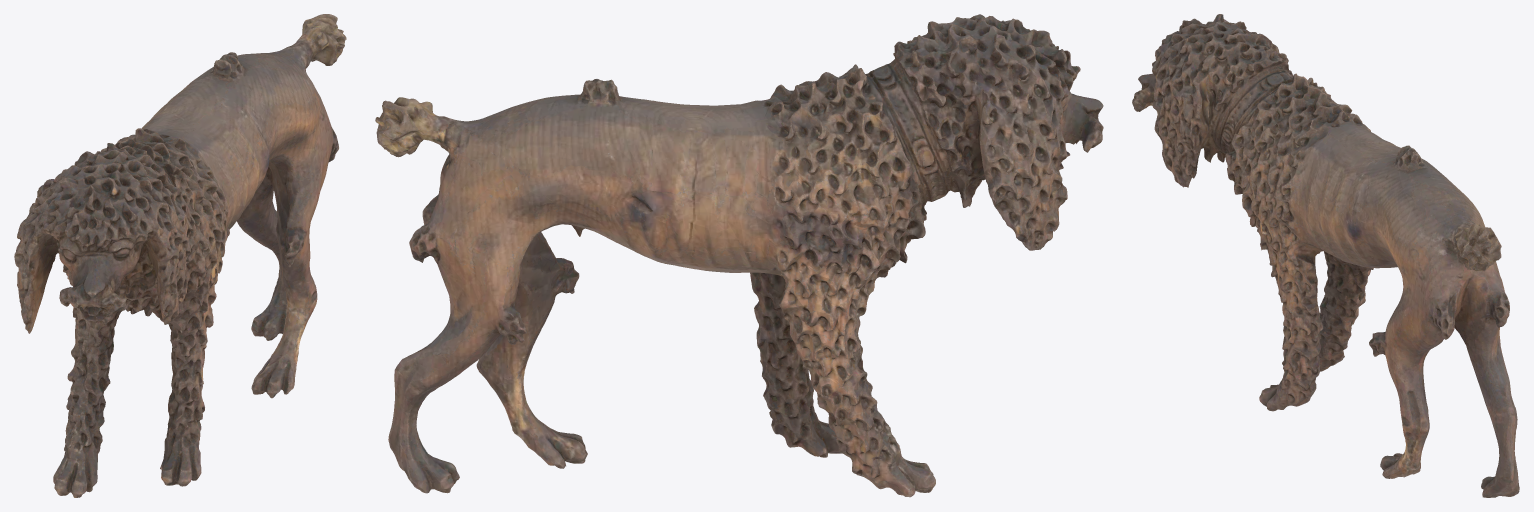
The model's file is preview.glb.
3 views of the same model, side by side, from view 1: azimuth 30°, elevation 25°; view 2: azimuth 150°, elevation 25°; view 3: azimuth 270°, elevation 25° (orthographic). The views are drawn at different scales.
Parts seen in each view (by area): view 1: Stereo textured mesh_Material0_0; view 2: Stereo textured mesh_Material0_0; view 3: Stereo textured mesh_Material0_0.
Boxes of the visible parts, x1=… form: Stereo textured mesh_Material0_0: x1=14, y1=14, x2=346, y2=497; Stereo textured mesh_Material0_0: x1=375, y1=14, x2=1103, y2=497; Stereo textured mesh_Material0_0: x1=1132, y1=14, x2=1519, y2=497.
Size of the model in its own units: 995 by 772 by 810.
Materials: 1 (1 with a texture image).
